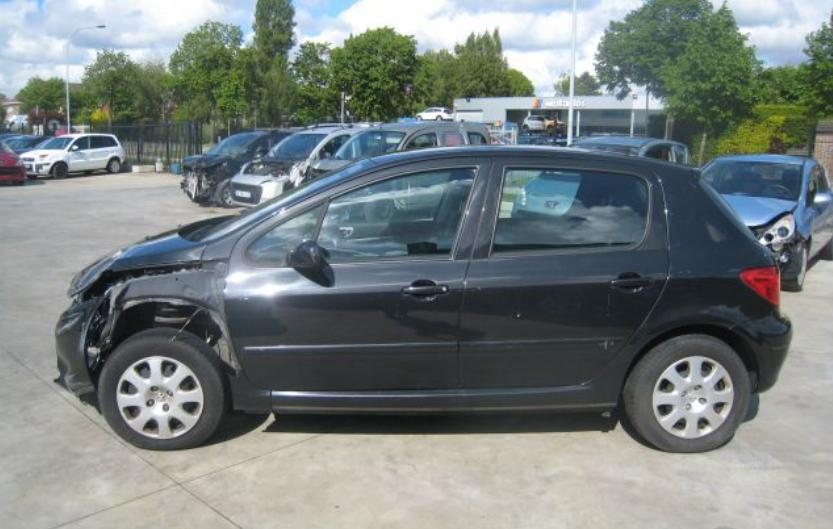Back-bumper: (730, 317, 793, 390)
Back-door: (458, 153, 668, 388)
Back-wheel: (621, 335, 750, 455)
Back-window: (491, 168, 650, 256)
Back-windshield: (698, 174, 767, 254)
Fender: (85, 259, 272, 411)
Front-bumper: (55, 302, 95, 394)
Front-door: (224, 156, 493, 393)
Front-wheel: (98, 329, 228, 449)
Front-window: (317, 168, 478, 264), (247, 204, 321, 267)
Hood: (70, 229, 204, 294)
Mirror: (288, 241, 323, 268)
Quarter-panel: (578, 249, 775, 388)
Rocker-panel: (272, 389, 619, 411)
Roof: (370, 147, 699, 182)
Tail-light: (740, 268, 780, 306)
Windshield: (193, 160, 372, 240)
